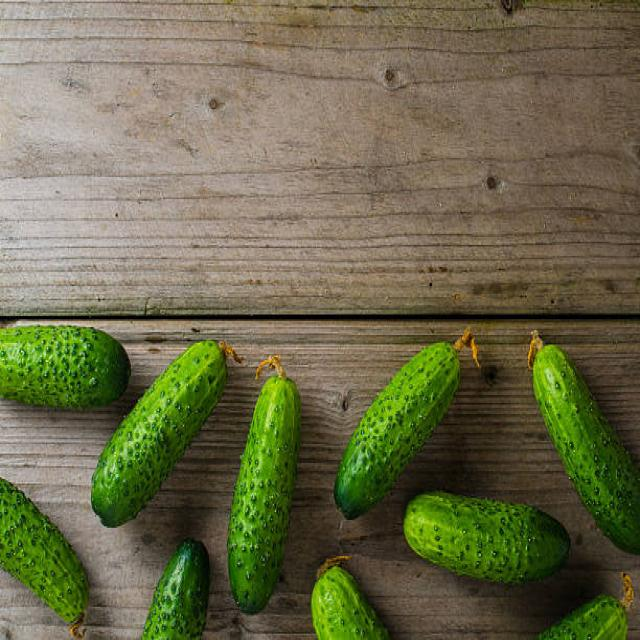cucumber: (89, 337, 228, 528), (532, 344, 640, 557), (333, 339, 461, 518), (227, 379, 302, 614), (406, 494, 574, 587), (1, 476, 91, 624), (0, 323, 133, 407), (142, 541, 210, 640), (312, 566, 388, 640)
